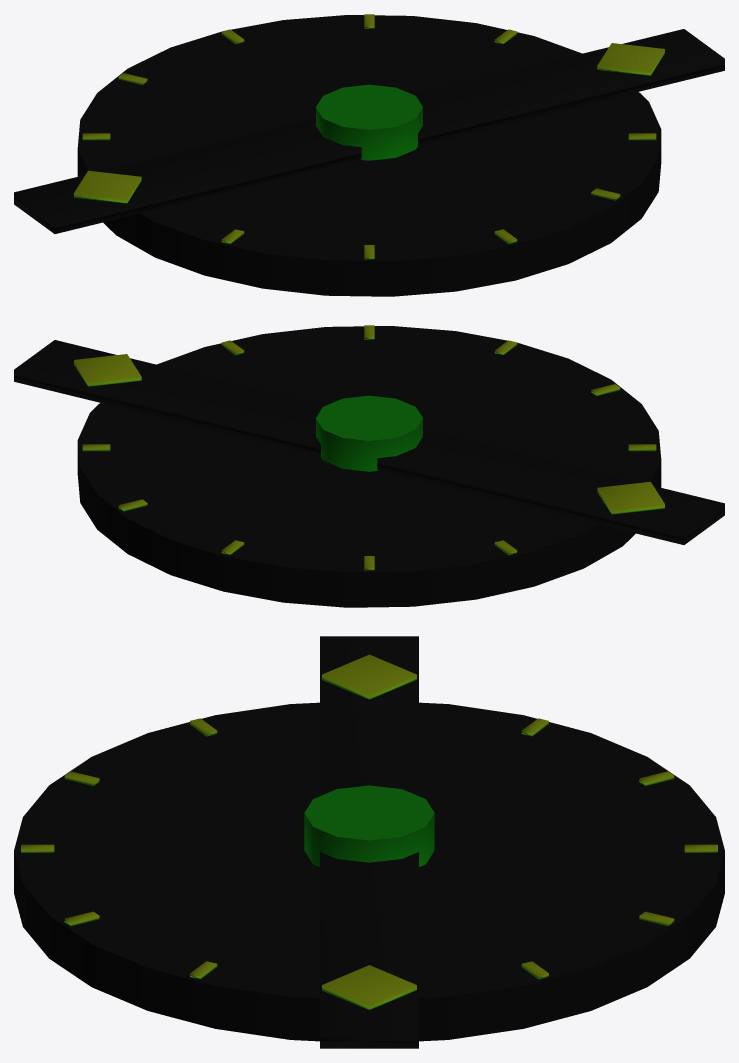
File: vein_gate.glb
3 views of the same model, one above another, from view 1: azimuth 30°, elevation 25°; view 2: azimuth 150°, elevation 25°; view 3: azimuth 270°, elevation 25° (orthographic). The views are drawn at different scales.
Parts seen in each view (by area): view 1: vein_gate; view 2: vein_gate; view 3: vein_gate.
Part boxes in pixels (x1,y1,x2,y2): vein_gate: (14,14,724,296); vein_gate: (14,325,724,607); vein_gate: (14,636,724,1048).
Size of what is drawn, in the model's own units: 1.59 by 0.15 by 1.2.
